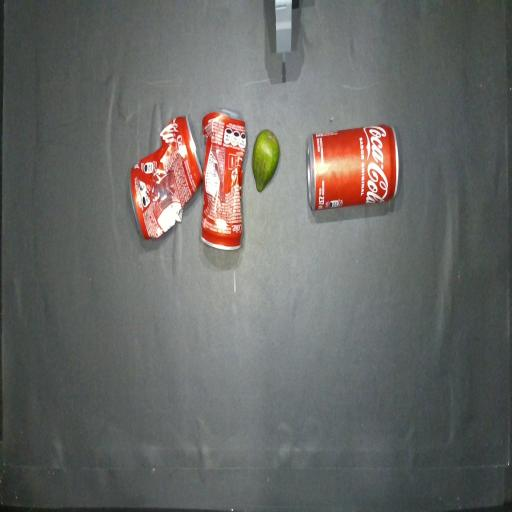higo: (252, 129, 280, 192)
lata: (306, 125, 399, 210)
lata_defectuoso: (130, 116, 203, 239), (201, 110, 248, 249)
